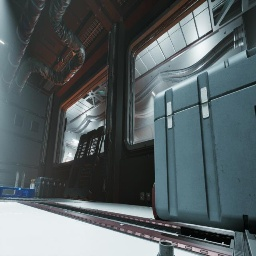0: (72, 49, 76, 56)
FirstAidBox ,: (57, 55, 64, 67)
NitrogenTank ,: (152, 182, 177, 222)
